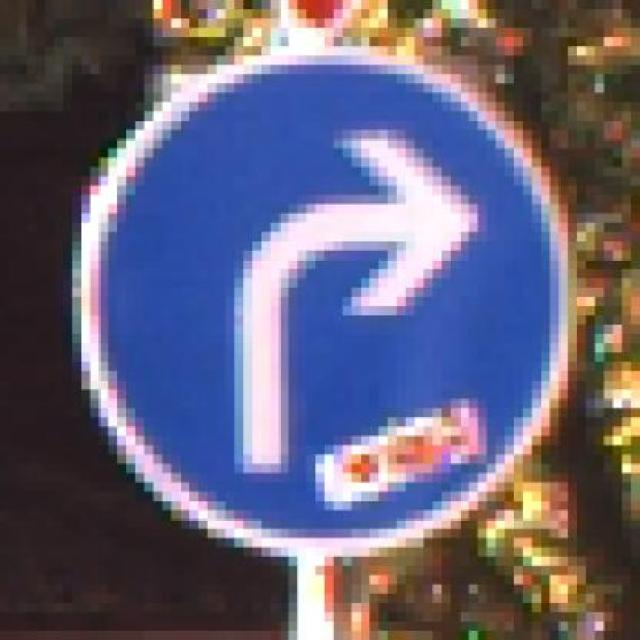Turn right ahead: (63, 47, 586, 576)
